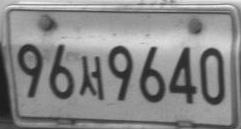0: (199, 47, 225, 105)
4: (168, 46, 197, 103)
6: (139, 45, 166, 102), (48, 43, 74, 98)
9: (16, 43, 43, 97), (107, 44, 133, 100)
서: (79, 55, 104, 101)
